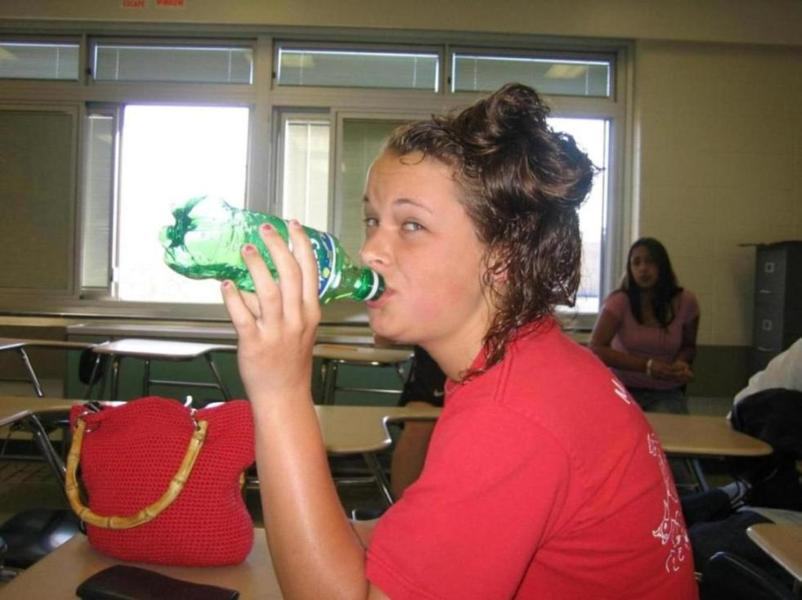person: (223, 83, 703, 599)
